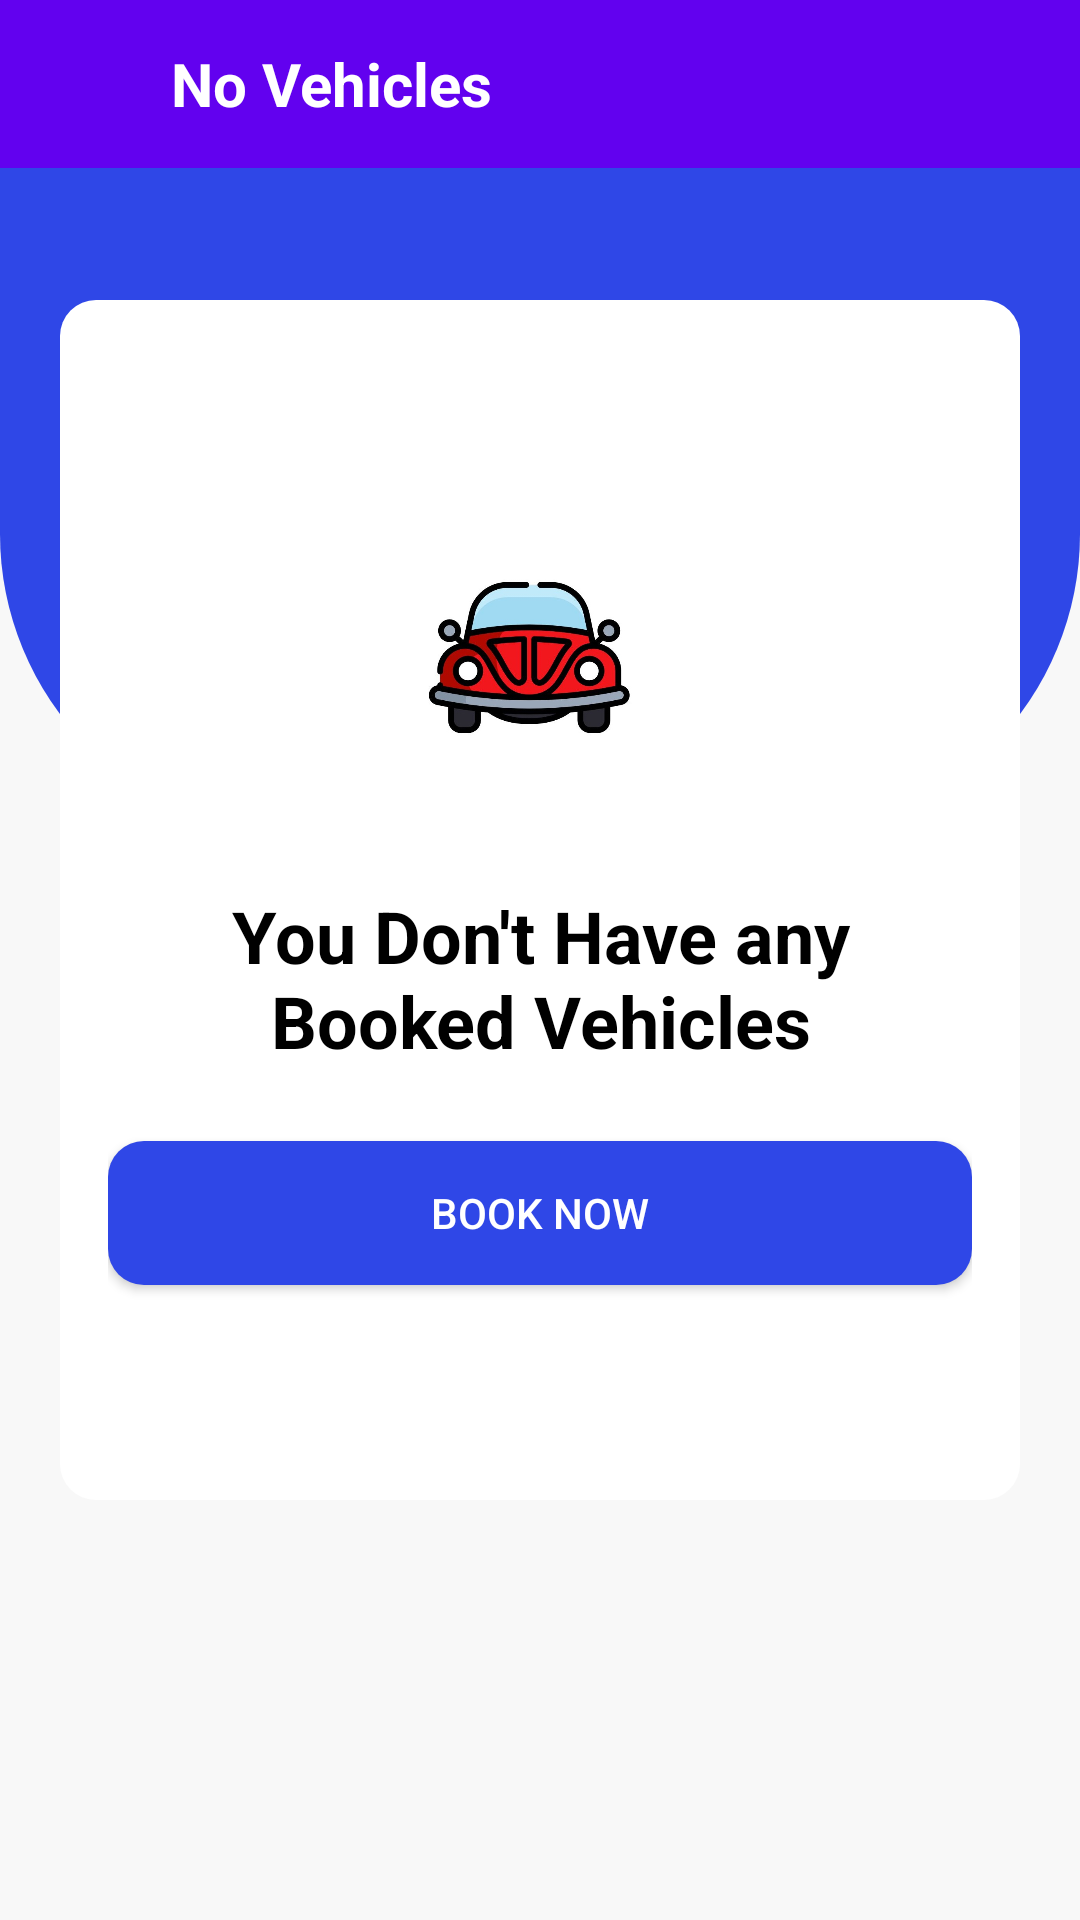

Icons on this 1080px×1920px Android screen, each with its box as (x1, y1, x2, y2):
car: (429, 582, 630, 733)
